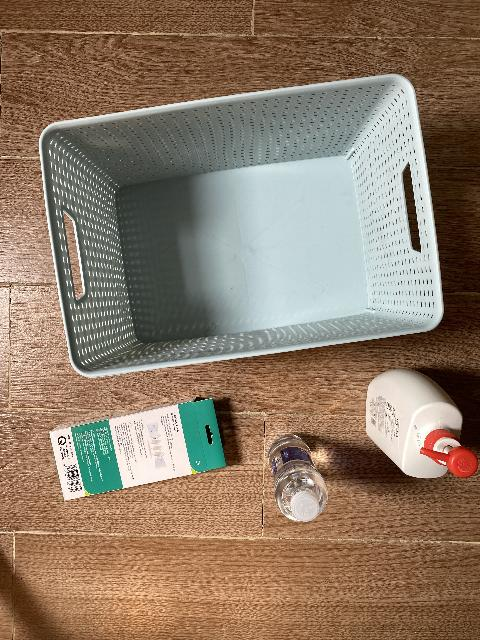4D_medical_face-mask: (49, 397, 226, 501)
aquafina: (268, 434, 328, 522)
cart: (37, 74, 444, 380)
life-buoy: (366, 369, 479, 479)
